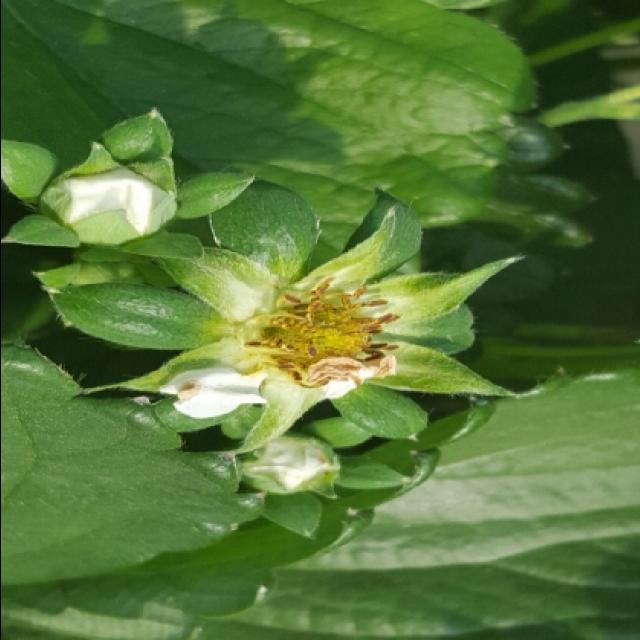Blossom Blight: (242, 269, 400, 392)
